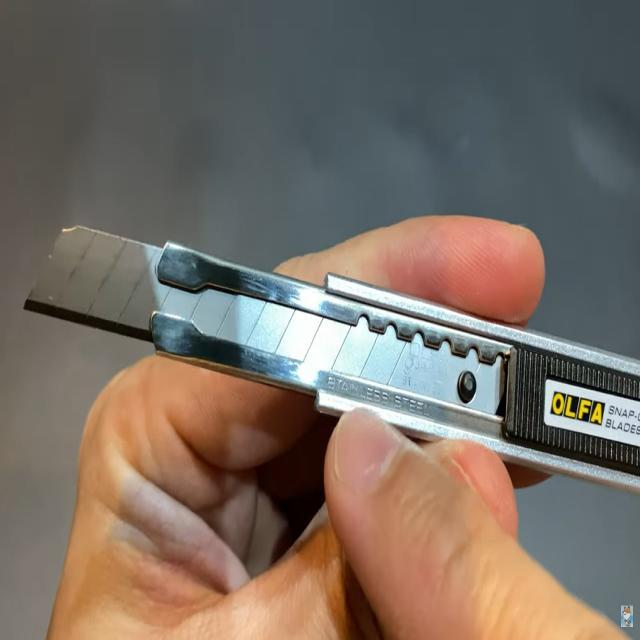cutter: (12, 170, 640, 511)
